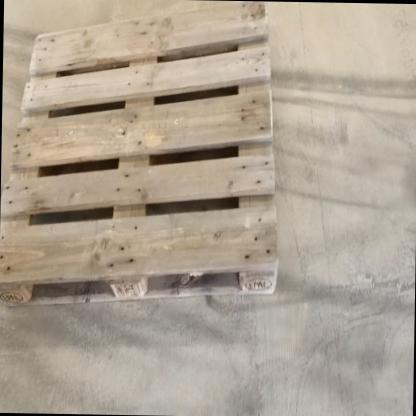BoxFace: (0, 0, 281, 314)
